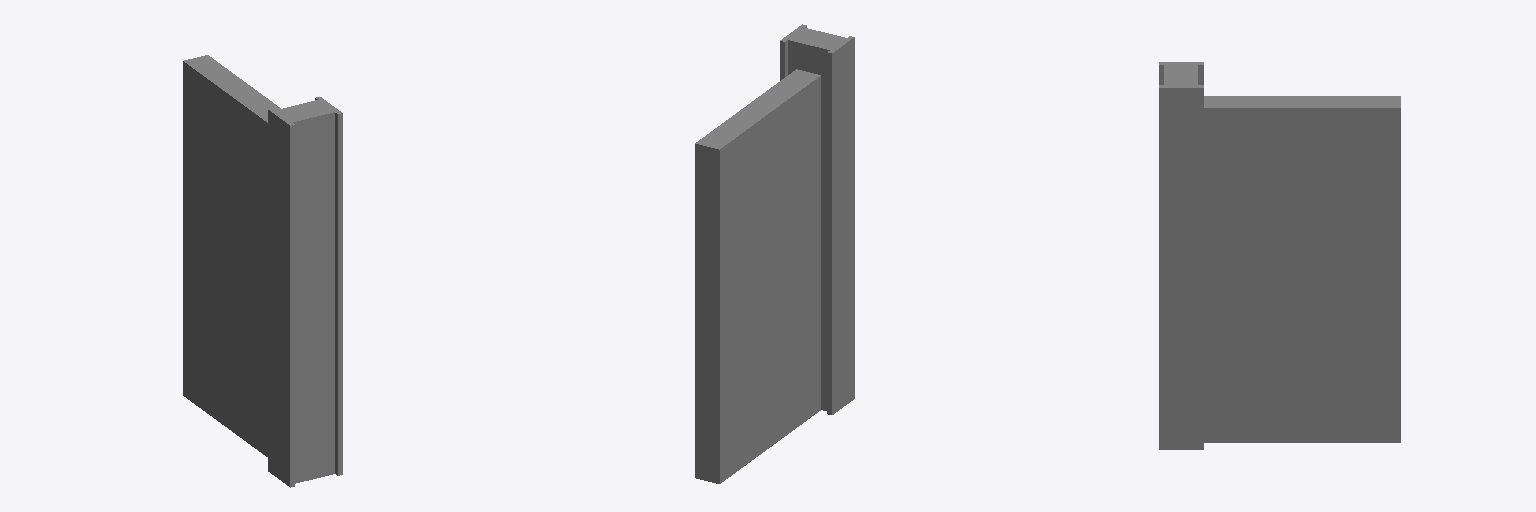
Rendered from wall.obj.
The picture shows the model from 3 angles: view 1: azimuth 30°, elevation 25°; view 2: azimuth 150°, elevation 25°; view 3: azimuth 270°, elevation 25°; orthographic projection.
Parts seen in each view (by area): view 1: Box001; view 2: Box001; view 3: Box001.
Boxes of the visible parts, box(x1,y1,x2,y2) form: Box001: box(183, 55, 342, 487); Box001: box(695, 24, 854, 483); Box001: box(1159, 62, 1400, 449).
Bounding box in the file's own units: 44.13 × 292 × 177.